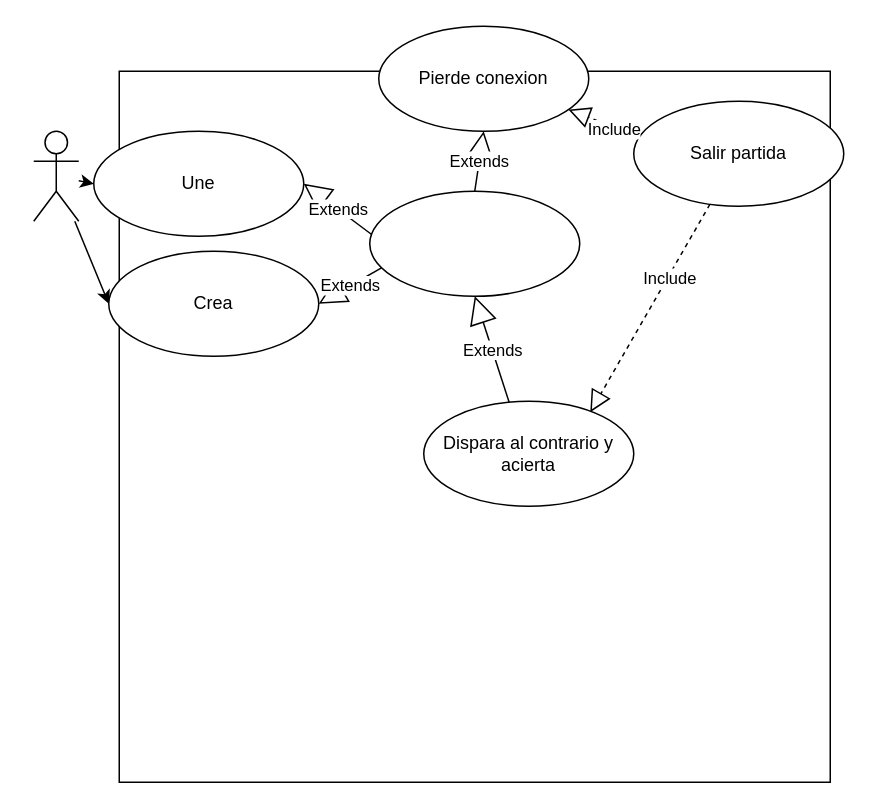
The diagram is 870 pixels wide and 809 high, and some of its shapes have lost their labels. The centre of each missing label's shape, as x and y in pixels:
"Partida" belongs at [474,243].
"Usuario" belongs at [55,175].
